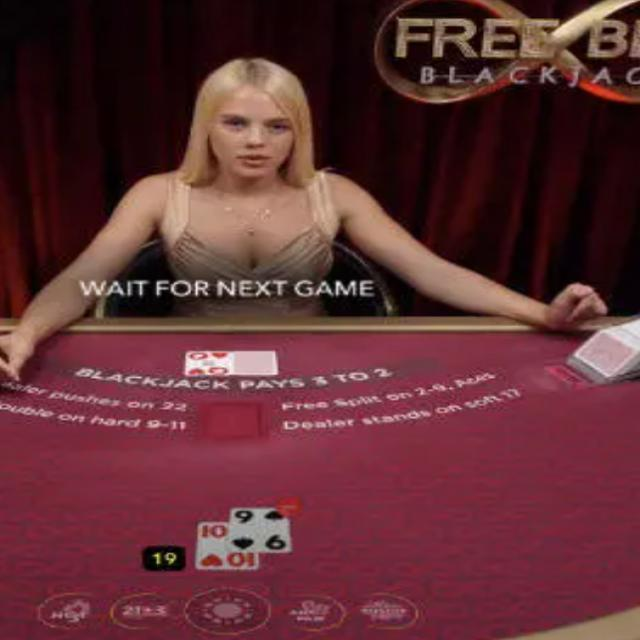Card-10: (195, 521, 259, 571)
Card-9: (228, 508, 291, 553)
Card-Q: (186, 350, 234, 376)
